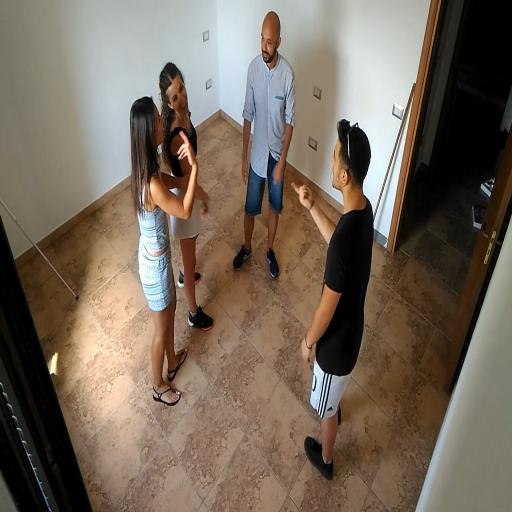nao-violencia: (102, 58, 220, 416)
